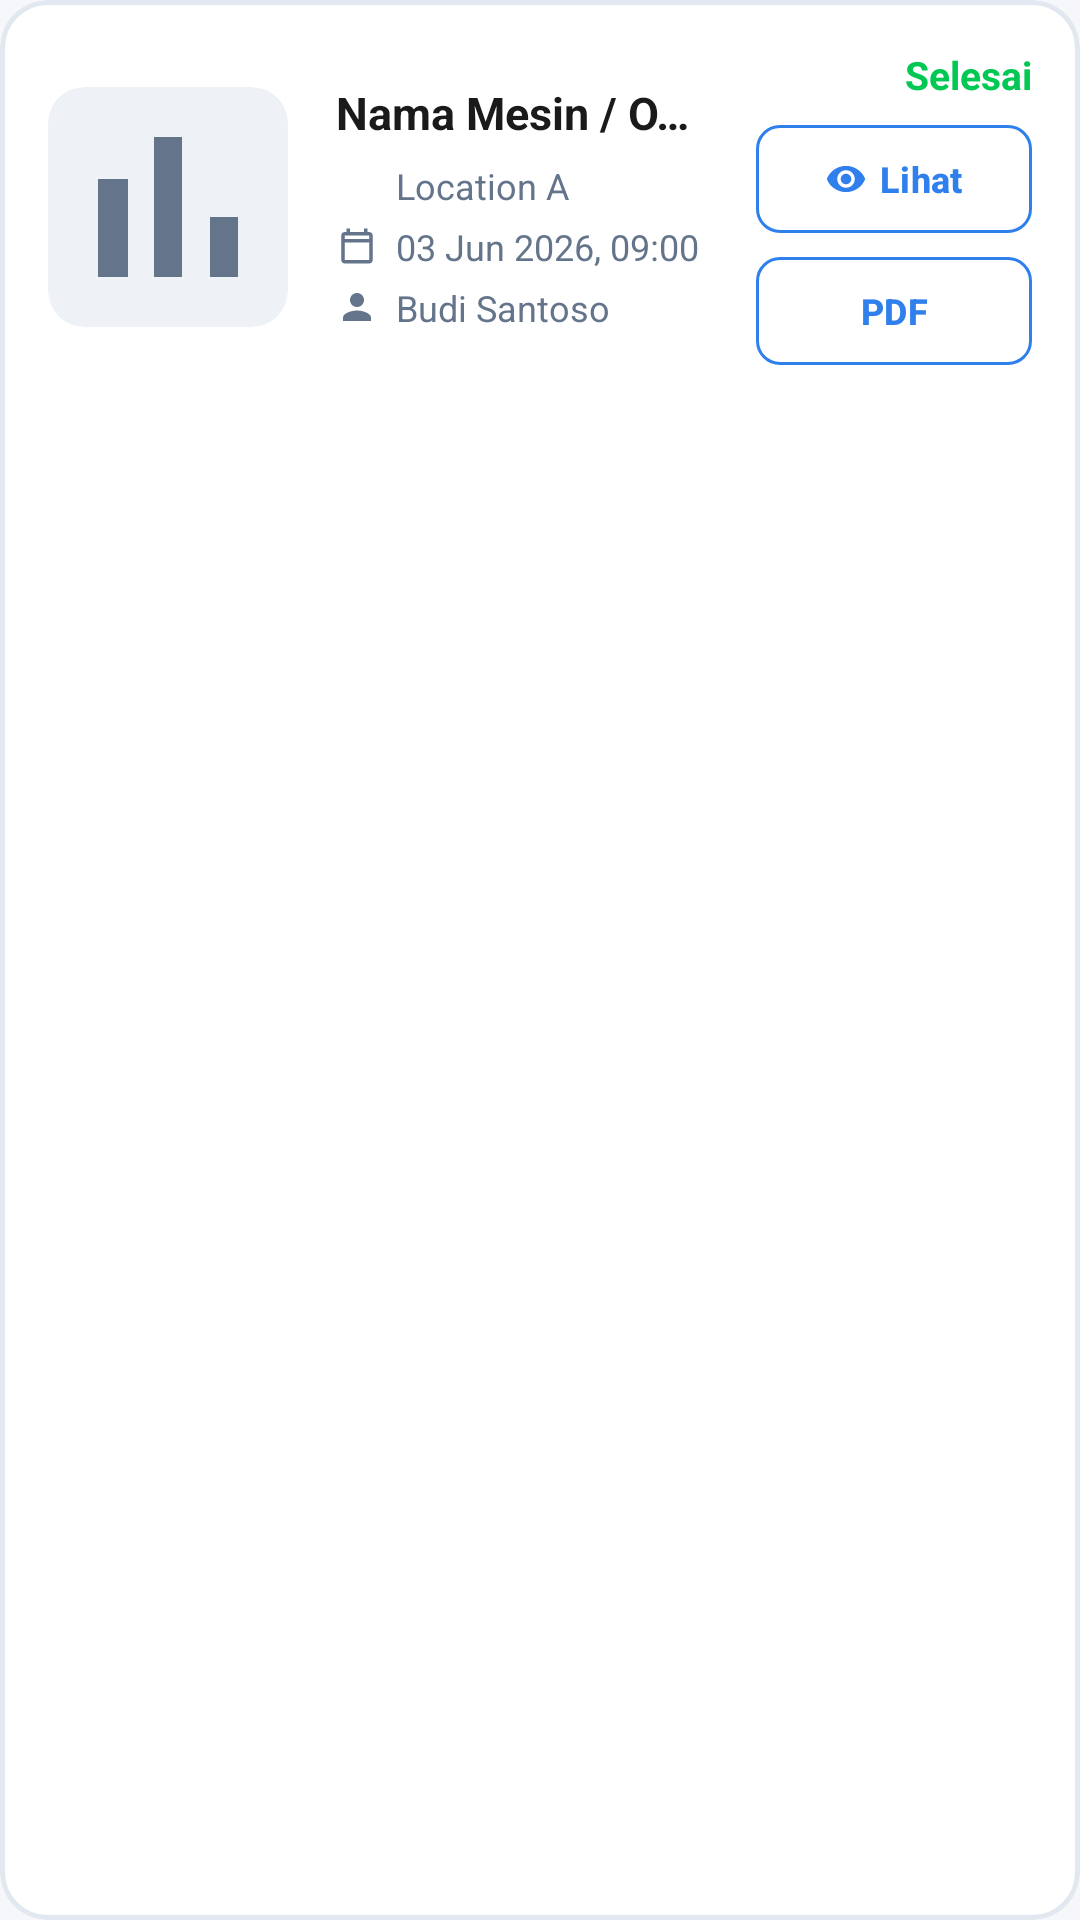

Icon bounding boxes for this 1080×1920 phone screenshot, format (x1, y1, x2, y2):
calendar: (341, 228, 373, 264)
person: (343, 293, 371, 321)
report: (48, 87, 288, 327)
